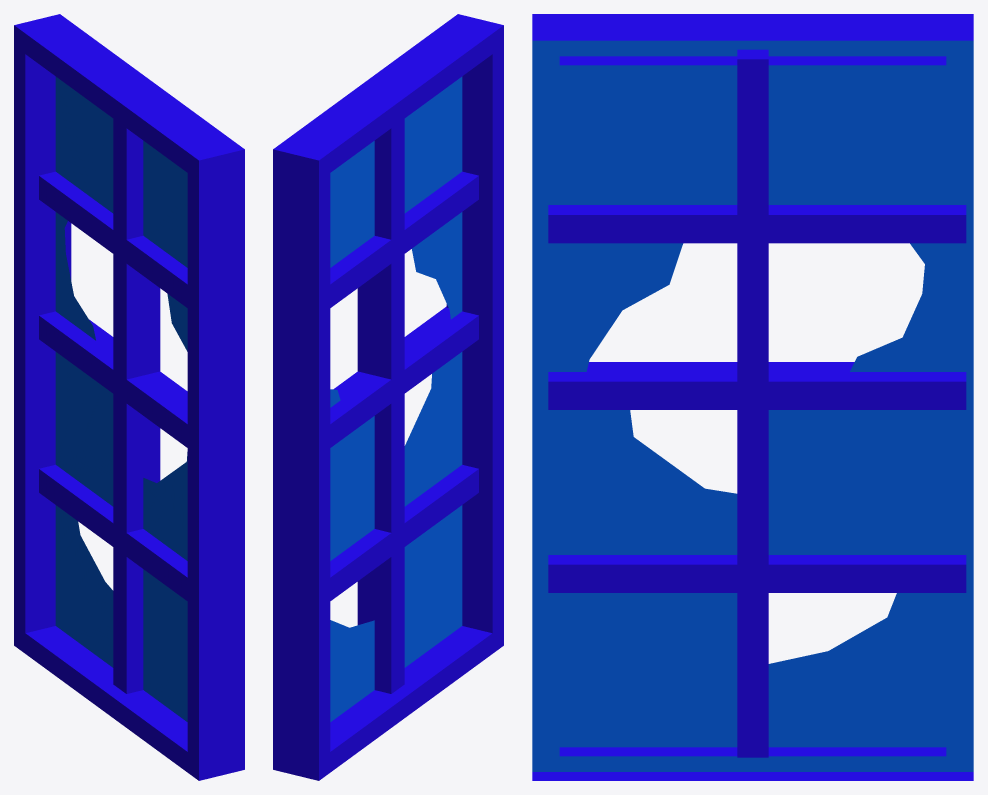
File: SM_Window6.fbx
The picture shows the model from 3 angles, left to right: view 1: azimuth 30°, elevation 25°; view 2: azimuth 150°, elevation 25°; view 3: azimuth 270°, elevation 25°; orthographic projection. The views are drawn at different scales.
Parts seen in each view (by area): view 1: Window6; view 2: Window6; view 3: Window6.
Part boxes in pixels (x1,y1,x2,y2): Window6: (14, 14, 244, 780); Window6: (273, 14, 503, 780); Window6: (532, 14, 973, 780).
Size of the model in its own units: 9.91 by 125 by 67.46.
